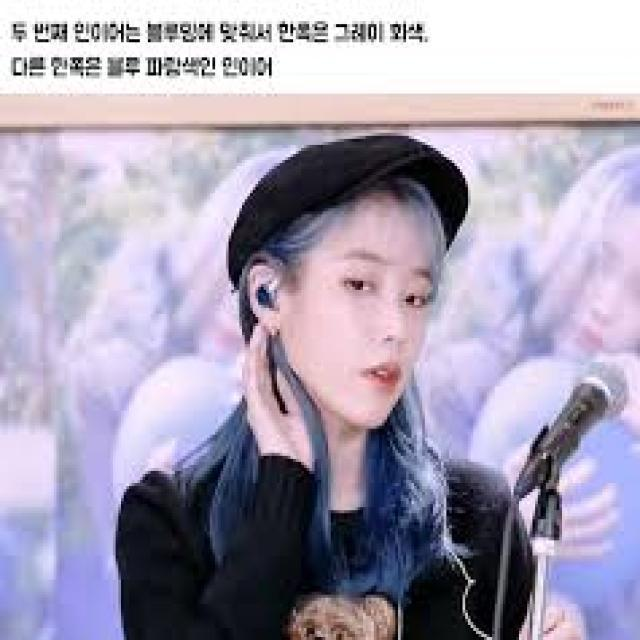earphone: (250, 281, 290, 324)
